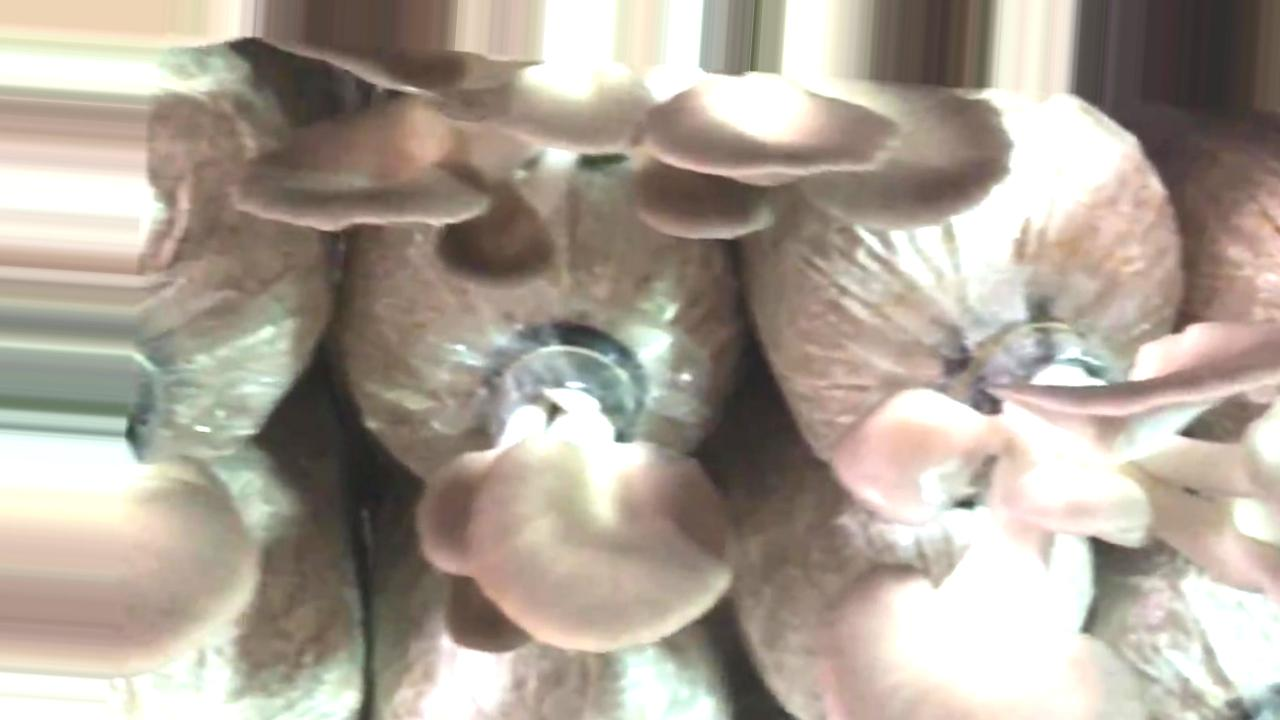nam: (230, 34, 1017, 295), (809, 313, 1280, 719), (406, 325, 741, 662), (120, 456, 257, 673)
